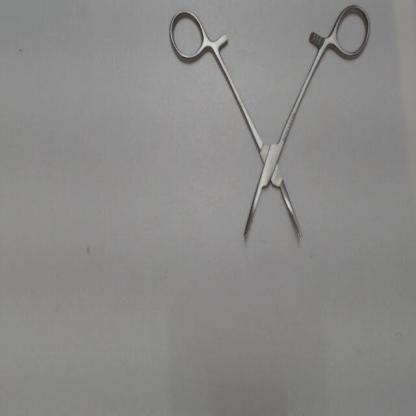Crile Artery Forceps: (164, 1, 374, 247)
